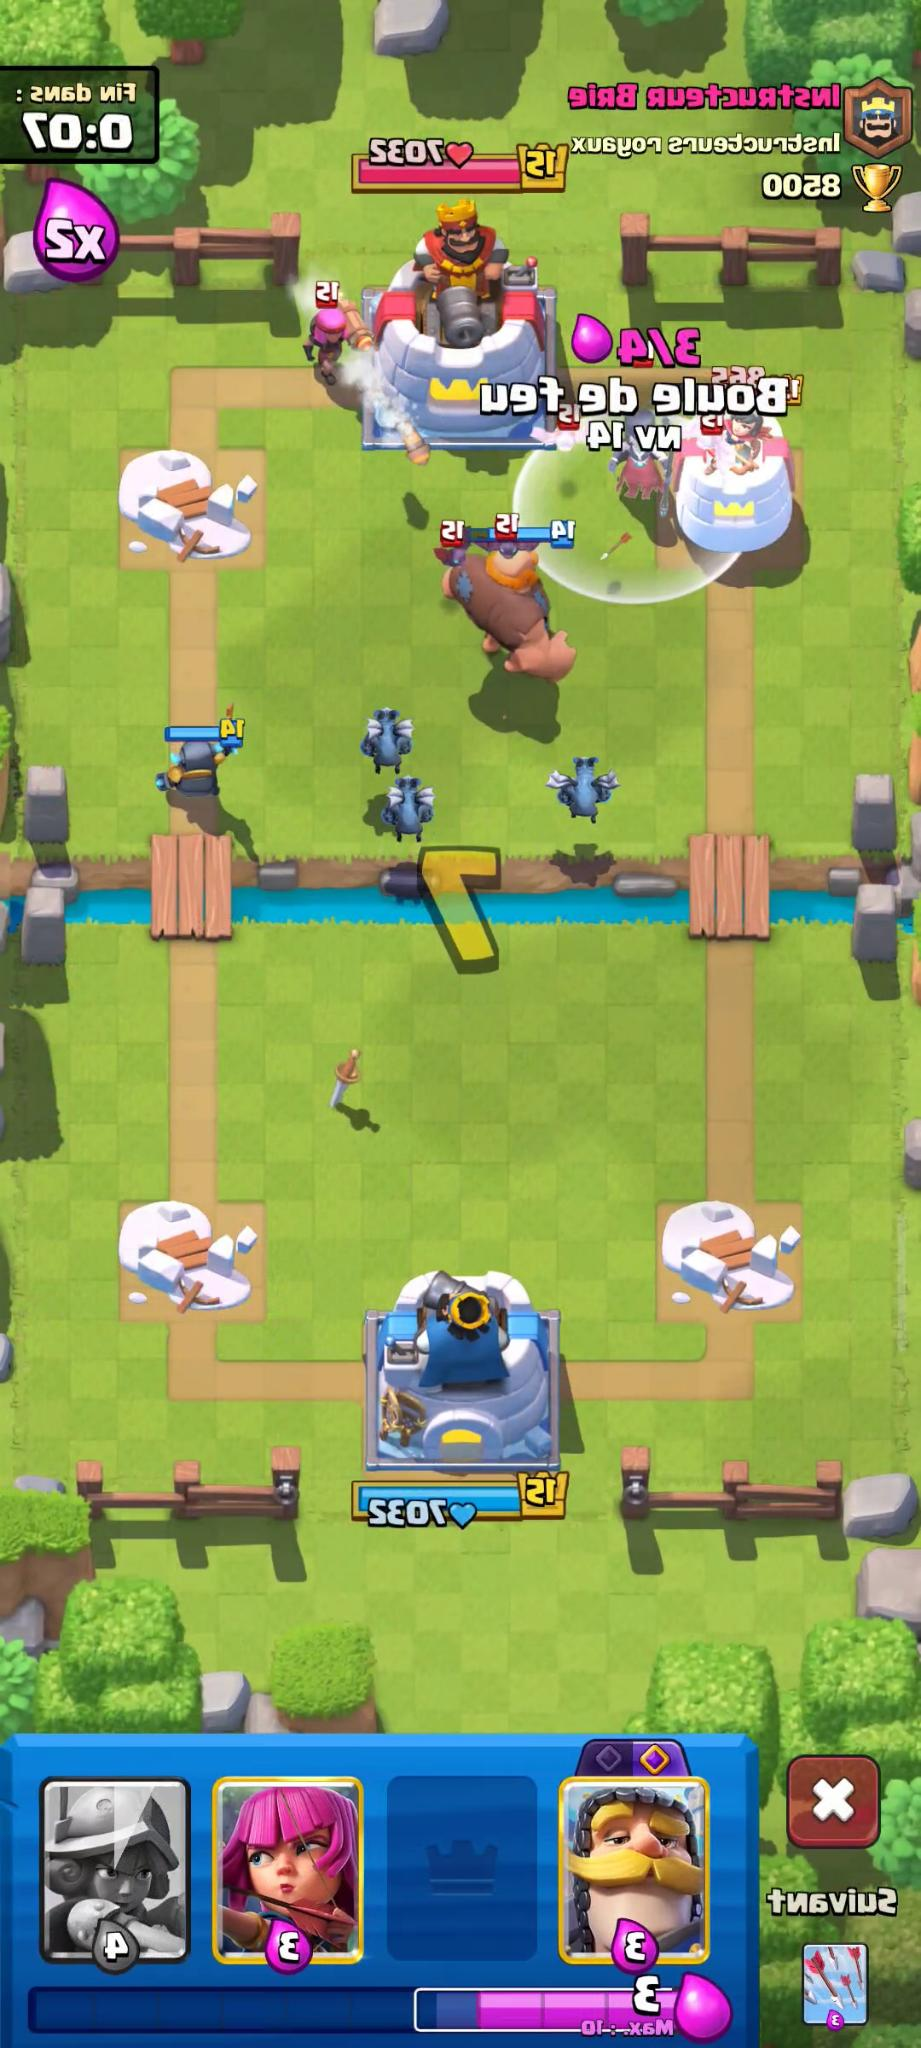bat: (524, 411, 611, 466), (415, 520, 477, 579), (670, 409, 741, 457), (473, 500, 523, 564)
gargouille: (358, 711, 412, 780), (381, 773, 432, 845), (564, 755, 611, 827)
geant: (439, 522, 576, 684)
mini_PEKKA: (154, 708, 244, 801)
